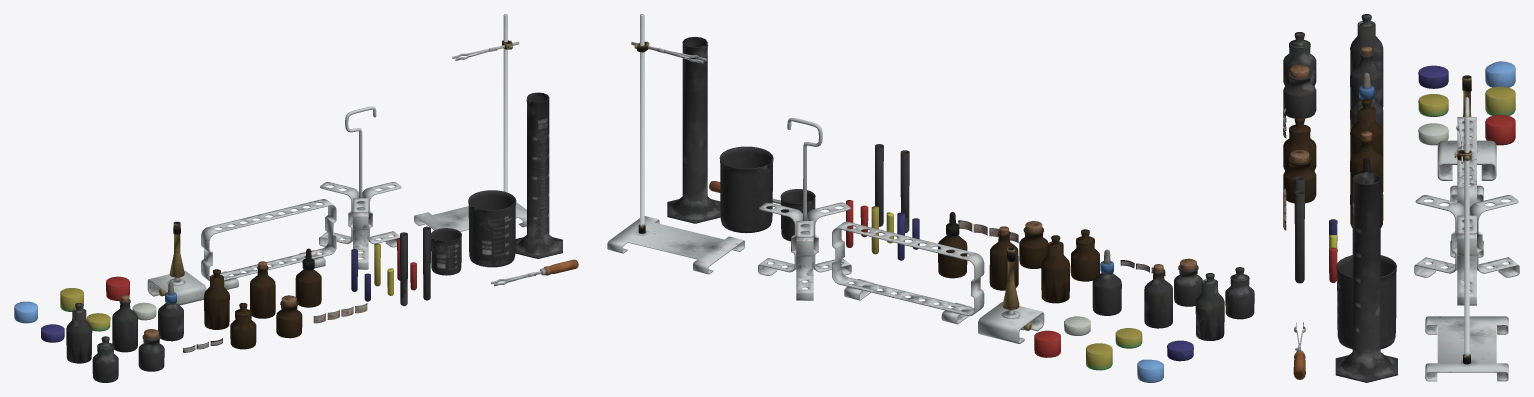
File: chemistry_set.glb
3 renders of one model, left to right at view 1: azimuth 30°, elevation 25°; view 2: azimuth 150°, elevation 25°; view 3: azimuth 270°, elevation 25°, orthographic. The views are drawn at different scales.
Parts seen in each view (by area): view 1: chemistry_set_beaker_large, chemistry_set_beaker_med, chemistry_set_test_tube_stand_a, chemistry_set_test_tube_stand_b, chemistry_set_clamp_stand, chemistry_set_bunsen_burner, chemistry_set_beaker_small, chemistry_set_bottle_clear_c, chemistry_set_bottle_dark_c, chemistry_set_bottle_dark_d, chemistry_set_bottle_clear_d, chemistry_set_bottle_dark_e (+11 smaller); view 2: chemistry_set_beaker_large, chemistry_set_clamp_stand, chemistry_set_beaker_med, chemistry_set_test_tube_stand_a, chemistry_set_test_tube_stand_b, chemistry_set_bunsen_burner, chemistry_set_bottle_dark_c, chemistry_set_bottle_clear_c, chemistry_set_bottle_clear_d, chemistry_set_bottle_clear_e, chemistry_set_bottle_dark_d, chemistry_set_bottle_clear_a (+10 smaller); view 3: chemistry_set_beaker_large, chemistry_set_clamp_stand, chemistry_set_test_tube_stand_b, chemistry_set_beaker_med, chemistry_set_bunsen_burner, chemistry_set_test_tube_stand_a, chemistry_set_bottle_clear_b, chemistry_set_bottle_clear_d, chemistry_set_bottle_dark_c, chemistry_set_bottle_clear_c, chemistry_set_bottle_dark_b, chemistry_set_test_tube_a (+16 smaller).
Boxes of the visible parts, bbox=[...] form: chemistry_set_beaker_large: bbox=[515, 92, 562, 258]; chemistry_set_beaker_med: bbox=[468, 190, 516, 267]; chemistry_set_test_tube_stand_a: bbox=[201, 199, 336, 289]; chemistry_set_test_tube_stand_b: bbox=[319, 106, 401, 269]; chemistry_set_clamp_stand: bbox=[414, 14, 526, 231]; chemistry_set_bunsen_burner: bbox=[147, 221, 206, 305]; chemistry_set_beaker_small: bbox=[431, 228, 461, 275]; chemistry_set_bottle_clear_c: bbox=[66, 308, 92, 363]; chemistry_set_bottle_dark_c: bbox=[204, 275, 229, 329]; chemistry_set_bottle_dark_d: bbox=[250, 265, 275, 318]; chemistry_set_bottle_clear_d: bbox=[112, 299, 137, 352]; chemistry_set_bottle_dark_e: bbox=[295, 269, 321, 307]; chemistry_set_beaker_large: bbox=[667, 37, 720, 223]; chemistry_set_clamp_stand: bbox=[607, 14, 744, 274]; chemistry_set_beaker_med: bbox=[719, 146, 773, 233]; chemistry_set_test_tube_stand_a: bbox=[832, 221, 984, 324]; chemistry_set_test_tube_stand_b: bbox=[758, 118, 851, 300]; chemistry_set_bunsen_burner: bbox=[978, 247, 1044, 343]; chemistry_set_bottle_dark_c: bbox=[1041, 241, 1070, 303]; chemistry_set_bottle_clear_c: bbox=[1195, 279, 1224, 340]; chemistry_set_bottle_clear_d: bbox=[1144, 268, 1172, 328]; chemistry_set_bottle_clear_e: bbox=[1092, 273, 1121, 315]; chemistry_set_bottle_dark_d: bbox=[989, 231, 1018, 290]; chemistry_set_bottle_clear_a: bbox=[1225, 274, 1254, 319]; chemistry_set_beaker_large: bbox=[1335, 172, 1397, 382]; chemistry_set_clamp_stand: bbox=[1425, 117, 1508, 381]; chemistry_set_test_tube_stand_b: bbox=[1414, 97, 1519, 305]; chemistry_set_beaker_med: bbox=[1336, 255, 1396, 349]; chemistry_set_bunsen_burner: bbox=[1437, 75, 1496, 180]; chemistry_set_test_tube_stand_a: bbox=[1450, 117, 1483, 257]; chemistry_set_bottle_clear_b: bbox=[1283, 72, 1316, 118]; chemistry_set_bottle_clear_d: bbox=[1350, 52, 1383, 108]; chemistry_set_bottle_dark_c: bbox=[1350, 106, 1383, 159]; chemistry_set_bottle_clear_c: bbox=[1350, 21, 1383, 74]; chemistry_set_bottle_dark_b: bbox=[1283, 157, 1316, 203]; chemistry_set_test_tube_a: bbox=[1294, 190, 1304, 283].
Size of the model in its own units: 1.08 by 0.429 by 0.3539.
Materials: 2 (2 with a texture image).
